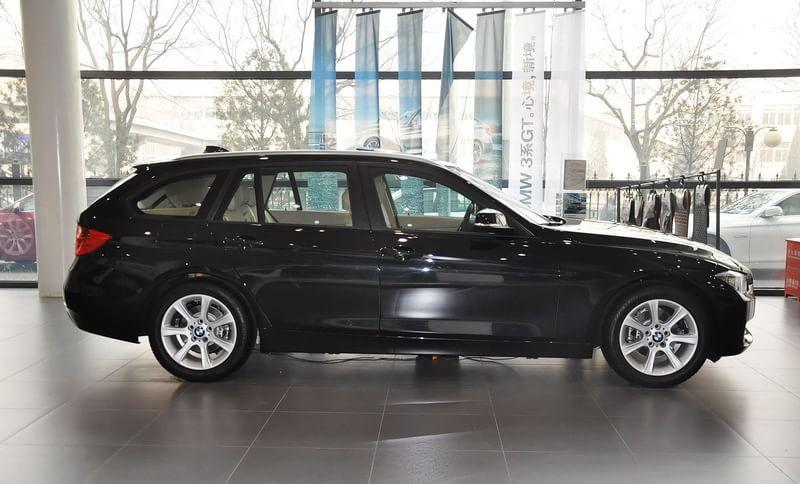Wagon: (62, 145, 759, 387)
